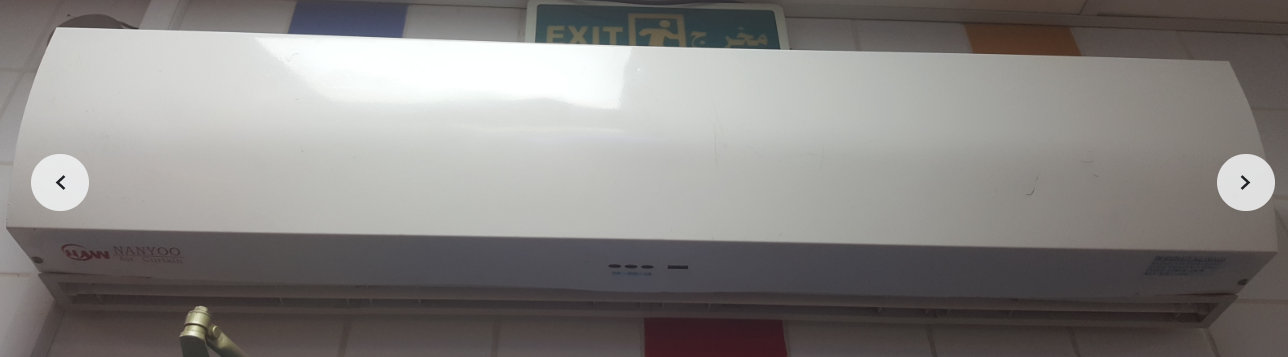Air Curtain: (7, 18, 1283, 325)
